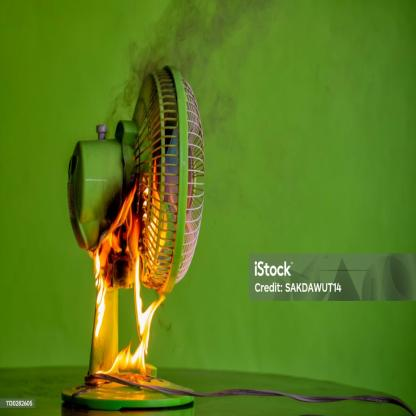fire: (85, 161, 176, 394)
smoke: (106, 1, 279, 136)
